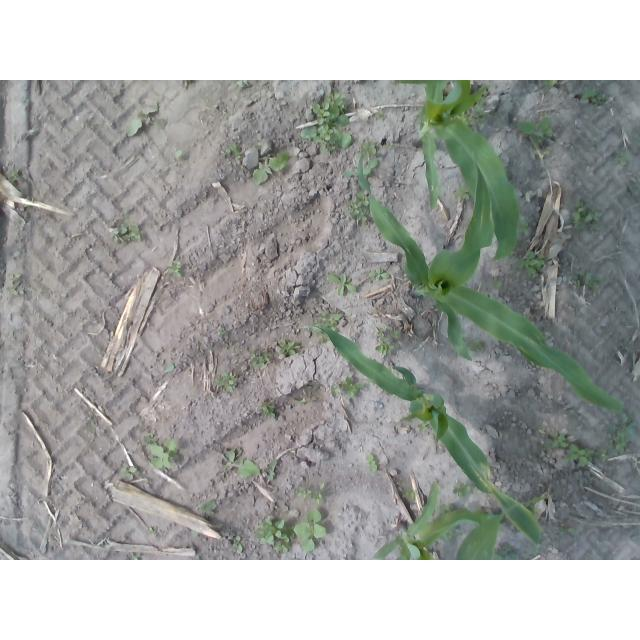Maize: (353, 149, 628, 416), (303, 321, 545, 550), (408, 80, 520, 261), (369, 482, 508, 560), (455, 497, 545, 560)
Weeds: (298, 93, 352, 158), (254, 517, 295, 555), (294, 508, 326, 552), (125, 102, 164, 137), (344, 143, 379, 181), (252, 152, 290, 185), (142, 436, 178, 469), (568, 202, 604, 233), (308, 311, 342, 343), (606, 414, 634, 452), (453, 97, 488, 127), (224, 449, 260, 477), (518, 115, 554, 143), (373, 326, 399, 354), (516, 252, 545, 277), (565, 443, 594, 468), (331, 377, 365, 398), (295, 483, 326, 506), (347, 192, 370, 221), (328, 273, 357, 296), (540, 428, 569, 449), (111, 225, 142, 243), (573, 270, 600, 290), (579, 87, 606, 105), (2, 272, 22, 296), (216, 371, 237, 393), (278, 339, 301, 357), (491, 544, 516, 560), (249, 349, 271, 367), (198, 497, 218, 515), (438, 527, 462, 542), (461, 336, 483, 352), (257, 401, 276, 419), (451, 482, 471, 499), (517, 213, 532, 235), (166, 260, 184, 278), (225, 143, 243, 160), (368, 268, 391, 281), (3, 167, 19, 185), (366, 453, 379, 473), (525, 502, 539, 519), (267, 460, 278, 481), (454, 185, 470, 199), (594, 449, 611, 462), (120, 466, 137, 478), (614, 152, 630, 164), (557, 525, 576, 535), (232, 536, 243, 553), (437, 503, 454, 514), (402, 488, 415, 500), (417, 419, 429, 432), (541, 80, 557, 89), (219, 326, 229, 339), (492, 277, 504, 287), (164, 363, 176, 373), (237, 80, 251, 88), (175, 150, 184, 159), (385, 139, 393, 149), (376, 107, 384, 117), (149, 528, 157, 537), (191, 530, 198, 536), (256, 142, 263, 148), (132, 556, 140, 560)
